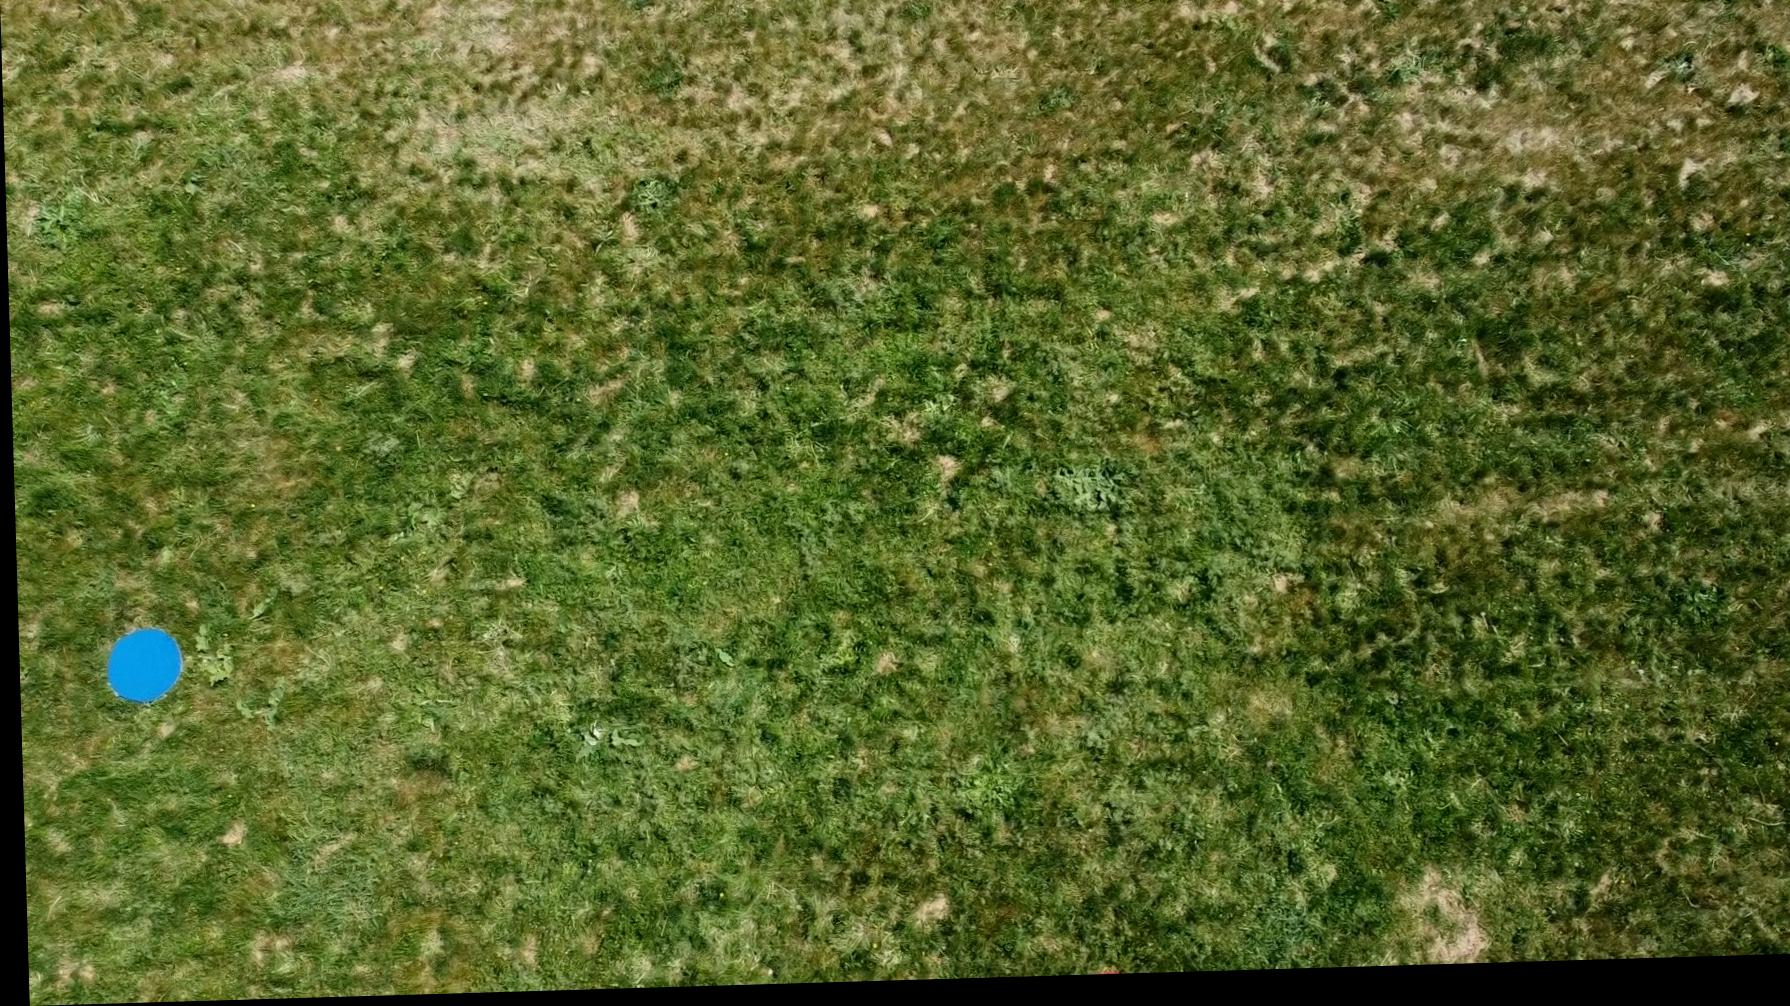Blue: (97, 626, 184, 710)
